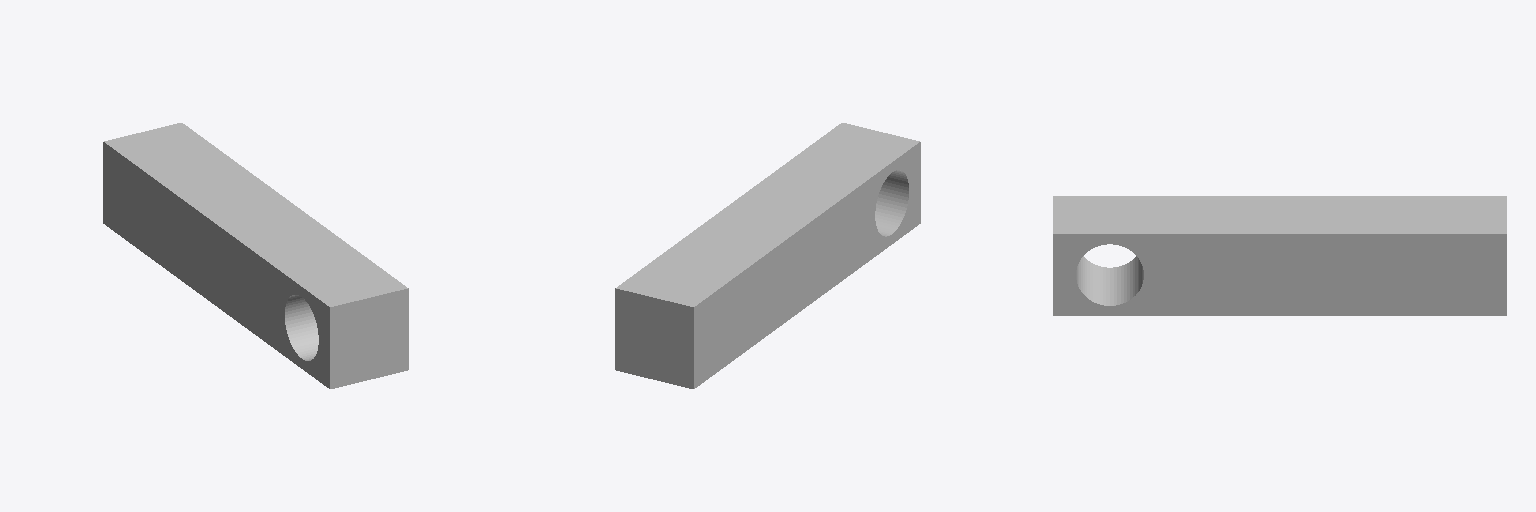
The model's file is hole_building.obj.
3 views of the same model, side by side, from view 1: azimuth 30°, elevation 25°; view 2: azimuth 150°, elevation 25°; view 3: azimuth 270°, elevation 25° (orthographic).
Parts seen in each view (by area): view 1: Cube; view 2: Cube; view 3: Cube.
Part boxes in pixels (x1,y1,x2,y2): Cube: (103,123,408,388); Cube: (615,123,920,388); Cube: (1053,196,1506,315).
Size of the model in its own units: 8 by 8 by 40.